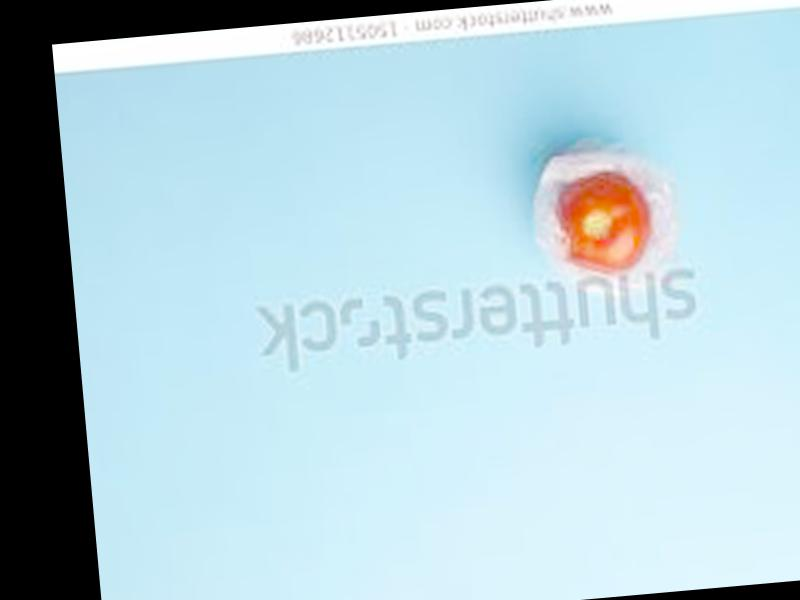Tomato: (551, 170, 652, 277)
